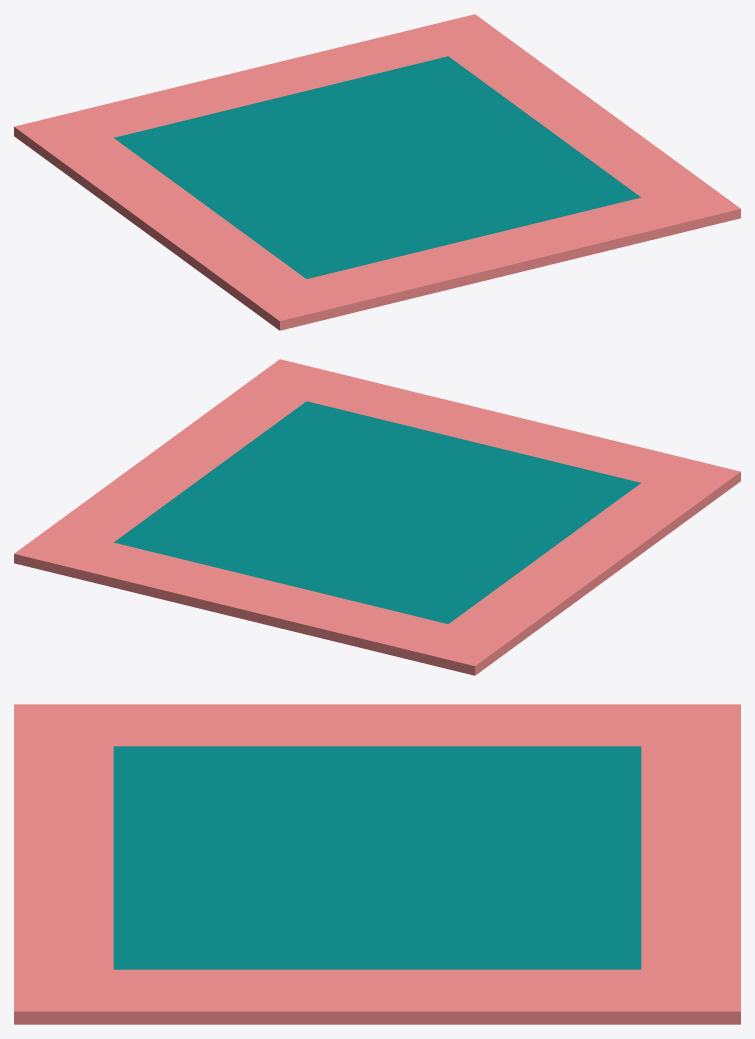
3 renders of one model, top to bottom at view 1: azimuth 30°, elevation 25°; view 2: azimuth 150°, elevation 25°; view 3: azimuth 270°, elevation 25°, orthographic. The views are drawn at different scales.
Parts seen in each view (by area): view 1: Box005; view 2: Box005; view 3: Box005.
Part boxes in pixels (x1=…): Box005: x1=14, y1=14, x2=740, y2=330; Box005: x1=14, y1=359, x2=740, y2=675; Box005: x1=14, y1=704, x2=740, y2=1024.
Bounding box in the file's own units: 23347 × 461 × 23317.
